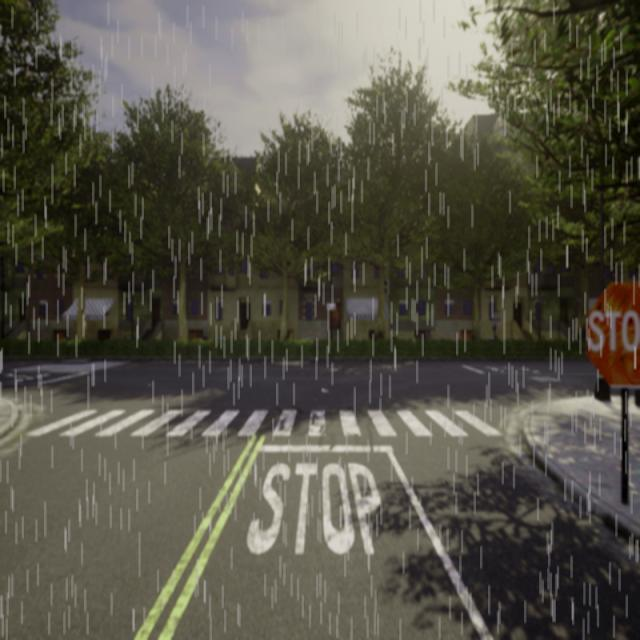stop sign: (582, 275, 639, 394)
